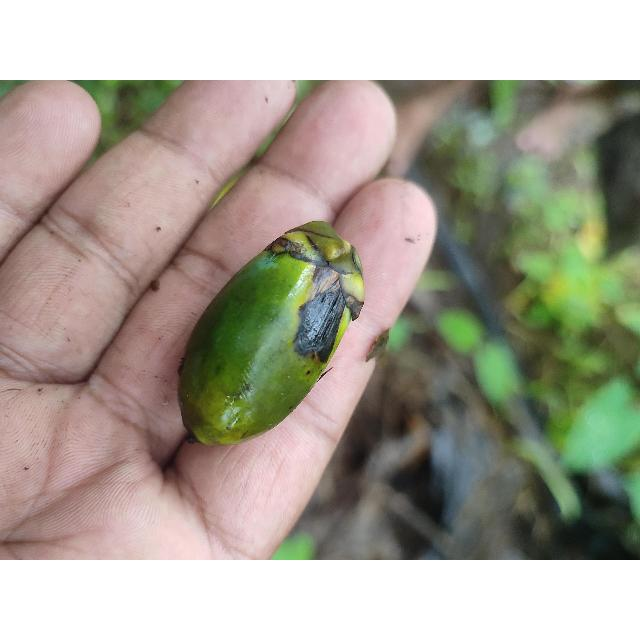good: (174, 220, 368, 448)
